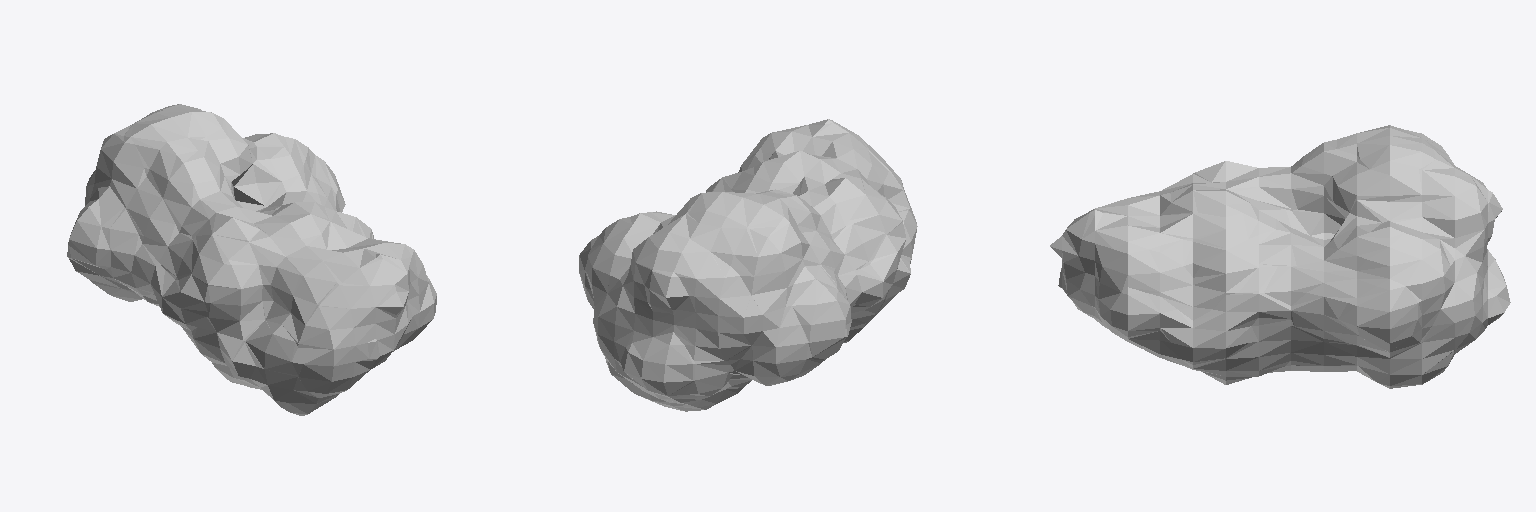
Rendered from 5x5y_mb_cms.obj.
The picture shows the model from 3 angles: view 1: azimuth 30°, elevation 25°; view 2: azimuth 150°, elevation 25°; view 3: azimuth 270°, elevation 25°; orthographic projection.
Size of the model in its own units: 94.03 by 71.22 by 140.